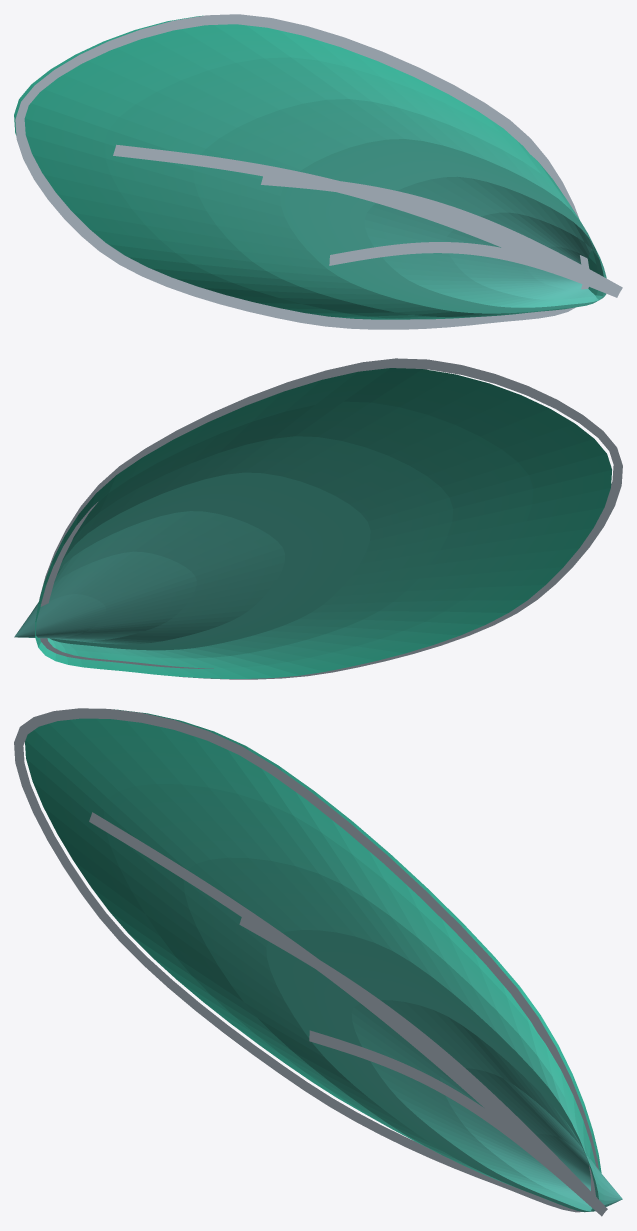
File: Sucrose_AstableAnemohypostasisCreation_ThreeTargets_WindWingUpper-1.fbx
3 renders of one model, top to bottom at view 1: azimuth 30°, elevation 25°; view 2: azimuth 150°, elevation 25°; view 3: azimuth 330°, elevation 25°, orthographic.
Visible parts, largest first — view 1: PART_AuthoredWindWing_Upper_-1, PART_BrokenWindWingEdge_Upper_-1, PART_FlowingWingVein_Upper_-1_0, PART_FlowingWingVein_Upper_-1_1, PART_FlowingWingVein_Upper_-1_2; view 2: PART_AuthoredWindWing_Upper_-1, PART_BrokenWindWingEdge_Upper_-1; view 3: PART_AuthoredWindWing_Upper_-1, PART_BrokenWindWingEdge_Upper_-1, PART_FlowingWingVein_Upper_-1_0, PART_FlowingWingVein_Upper_-1_1, PART_FlowingWingVein_Upper_-1_2.
Part boxes in pixels (x1,y1,x2,y2): PART_AuthoredWindWing_Upper_-1: (14, 15, 606, 319); PART_BrokenWindWingEdge_Upper_-1: (15, 14, 589, 329); PART_FlowingWingVein_Upper_-1_0: (113, 144, 622, 295); PART_FlowingWingVein_Upper_-1_1: (261, 173, 622, 297); PART_FlowingWingVein_Upper_-1_2: (329, 242, 619, 297); PART_AuthoredWindWing_Upper_-1: (14, 368, 611, 678); PART_BrokenWindWingEdge_Upper_-1: (39, 358, 622, 679); PART_AuthoredWindWing_Upper_-1: (25, 709, 622, 1212); PART_BrokenWindWingEdge_Upper_-1: (14, 708, 598, 1212); PART_FlowingWingVein_Upper_-1_0: (89, 812, 604, 1216); PART_FlowingWingVein_Upper_-1_1: (239, 915, 607, 1214); PART_FlowingWingVein_Upper_-1_2: (309, 1030, 603, 1215).
Size of the model in its own units: 230 by 143 by 12.
